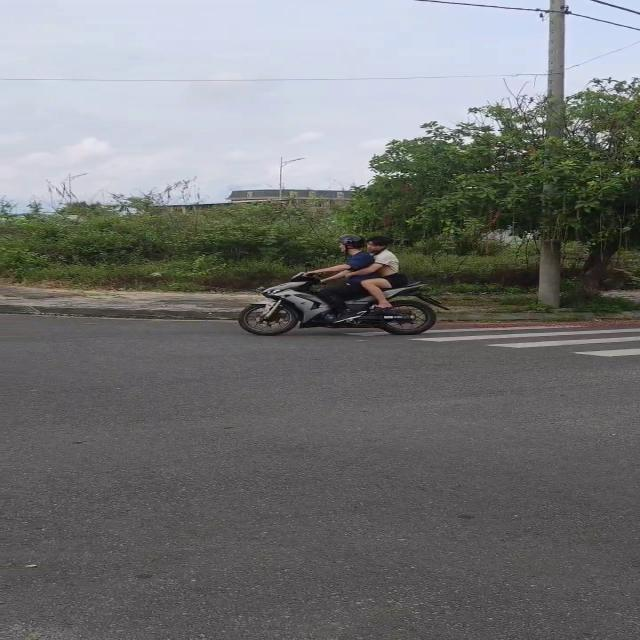helmet: (338, 235, 363, 248)
no_helmet: (361, 232, 396, 253)
